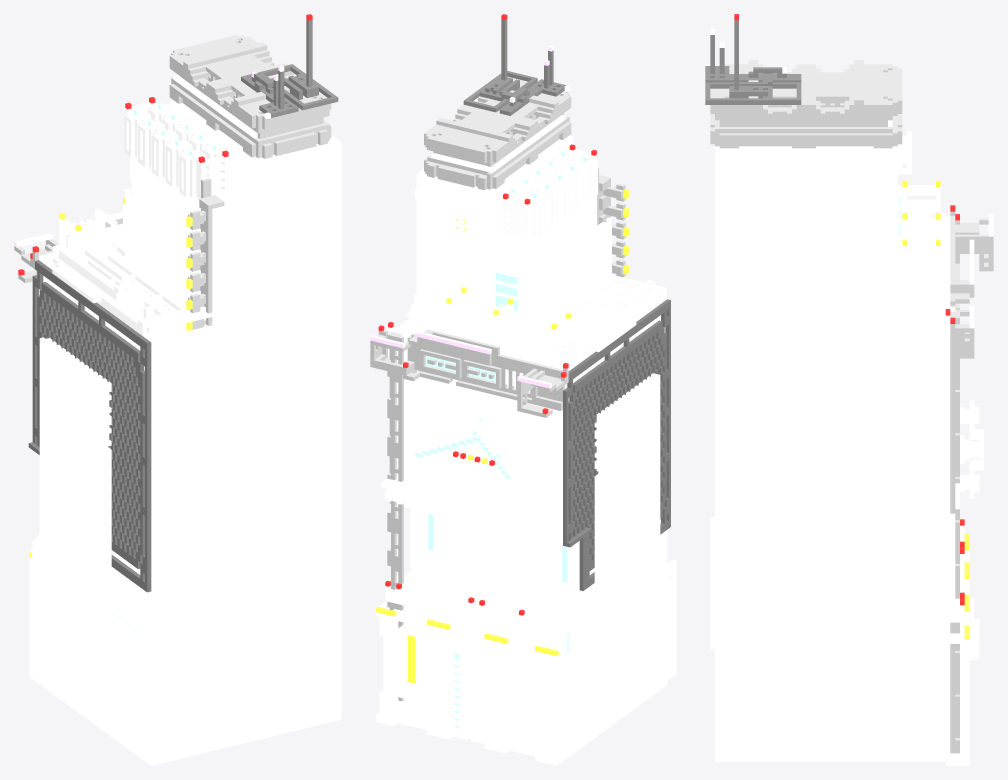
3 views of the same model, side by side, from view 1: azimuth 30°, elevation 25°; view 2: azimuth 150°, elevation 25°; view 3: azimuth 270°, elevation 25° (orthographic). The views are drawn at different scales.
Visible parts, largest first — view 1: Polygon; view 2: Polygon; view 3: Polygon.
Boxes of the visible parts, x1,y1,x2,y2 form: Polygon: (14, 14, 341, 765); Polygon: (370, 14, 676, 765); Polygon: (705, 14, 993, 765).
Bounding box in the file's own units: 5.6 × 16.9 × 6.
1 material, 1 textured.
